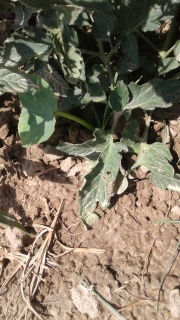tomato diseased leaf: (73, 135, 119, 213)
tomato plant: (4, 1, 171, 126)
